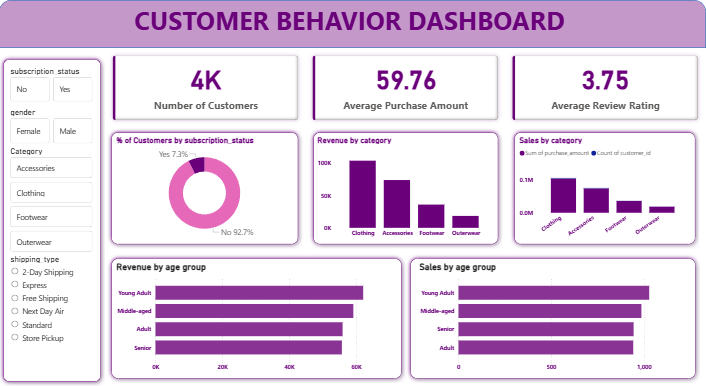

What the dashboard file says about the page in this screenshot:
{"tool":"powerbi","page":{"name":"Page 1","canvas":[1500,820],"ordinal":0},"visuals":[{"type":"cardVisual","fields":{"Data":["customer.Number of Customers","customer.Average Purchase Amount","customer.Average Review Rating"]},"box":[224.9,101.8,1275.1,169.7],"z":0},{"type":"shape","box":[229,272.4,414.7,255.8],"z":1000},{"type":"donutChart","title":"% of Customers by subscription_status","fields":{"Category":["customer.subscription_status"],"Y":["Sum(customer.customer_id)"]},"box":[243.5,286.8,383.8,227],"z":3000},{"type":"shape","box":[658.2,272.4,410.6,255.8],"z":4000},{"type":"shape","box":[1083.2,272.4,402.3,255.8],"z":5000},{"type":"clusteredColumnChart","title":"Revenue by category","fields":{"Y":["Sum(customer.purchase_amount)"],"Category":["customer.category"]},"box":[670.6,286.8,383.8,227],"z":6000},{"type":"clusteredColumnChart","title":"Sales by category","fields":{"Y":["Sum(customer.purchase_amount)","CountNonNull(customer.customer_id)"],"Category":["customer.category"]},"box":[1099.7,286.8,369.3,227],"z":7000},{"type":"shape","box":[0,116.7,224.9,702.3],"z":8000},{"type":"advancedSlicerVisual","fields":{"Values":["customer.subscription_status"]},"box":[19.1,140,184.6,80.6],"z":9000},{"type":"advancedSlicerVisual","fields":{"Values":["customer.gender"]},"box":[19.1,227,184.6,82.7],"z":10000},{"type":"advancedSlicerVisual","fields":{"Values":["customer.category"]},"box":[19.1,309.8,184.6,229.1],"z":11000},{"type":"listSlicer","fields":{"Values":["customer.shipping_type"]},"box":[19.1,538.9,184.6,254.6],"z":12000},{"type":"shape","box":[229.1,538.9,634.4,273.7],"z":13000},{"type":"clusteredBarChart","title":"Revenue by age group","fields":{"Y":["Sum(customer.purchase_amount)"],"Category":["customer.age_group"]},"box":[244,555.9,600.4,241.9],"z":14000},{"type":"shape","box":[863.5,538.9,623.8,273.7],"z":15000},{"type":"clusteredBarChart","title":"Revenue by age group","fields":{"Y":["CountNonNull(customer.customer_id)"],"Category":["customer.age_group"]},"box":[886.8,555.9,581.3,241.9],"z":16000},{"type":"shape","box":[0,0,1500,101.8],"z":17000},{"type":"textbox","box":[0,0,1487.3,101.8],"z":17500}]}

Visuals, with their boxes in screenshot pixels (x1, y1, x2, y2), scaled from the page's 1500x820 canvas onto the 706x386 screenshot:
cardVisual - customer.Number of Customers x customer.Average Purchase Amount: l=106, t=48, r=705, b=128
shape: l=108, t=128, r=303, b=249
"% of Customers by subscription_status" donutChart: l=115, t=135, r=295, b=242
shape: l=310, t=128, r=503, b=249
shape: l=510, t=128, r=699, b=249
"Revenue by category" clusteredColumnChart: l=316, t=135, r=496, b=242
"Sales by category" clusteredColumnChart: l=518, t=135, r=691, b=242
shape: l=0, t=55, r=106, b=385
advancedSlicerVisual - customer.subscription_status: l=9, t=66, r=96, b=104
advancedSlicerVisual - customer.gender: l=9, t=107, r=96, b=146
advancedSlicerVisual - customer.category: l=9, t=146, r=96, b=254
listSlicer - customer.shipping_type: l=9, t=254, r=96, b=374
shape: l=108, t=254, r=406, b=383
"Revenue by age group" clusteredBarChart: l=115, t=262, r=397, b=376
shape: l=406, t=254, r=700, b=383
"Revenue by age group" clusteredBarChart: l=417, t=262, r=691, b=376
shape: l=0, t=0, r=705, b=48
textbox: l=0, t=0, r=700, b=48
